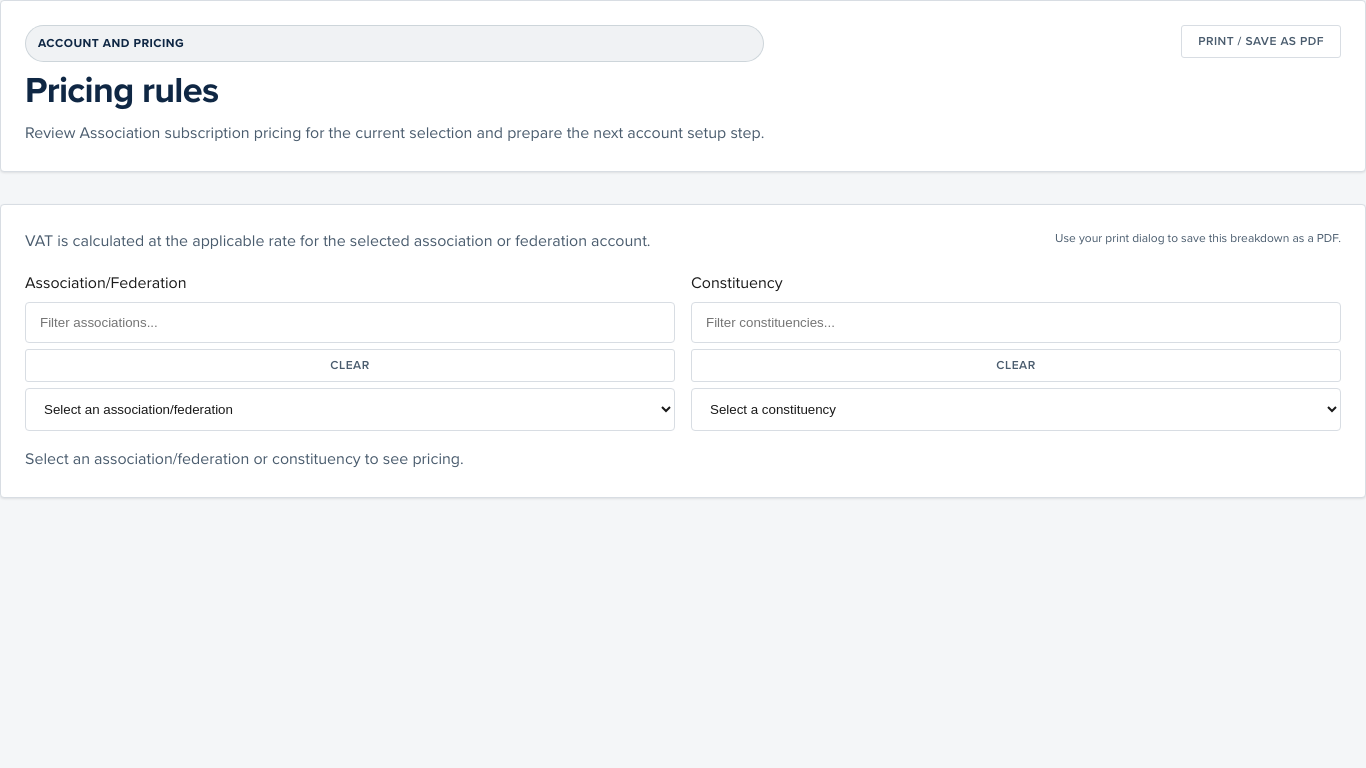
Test: PricingRules › selecting a constituency sets the association selection
The width and height of the screenshot is (1366, 768).
Select "Seat B" in the dropdown labelled "Constituency" at (1016, 410), box [691,388,1341,431]
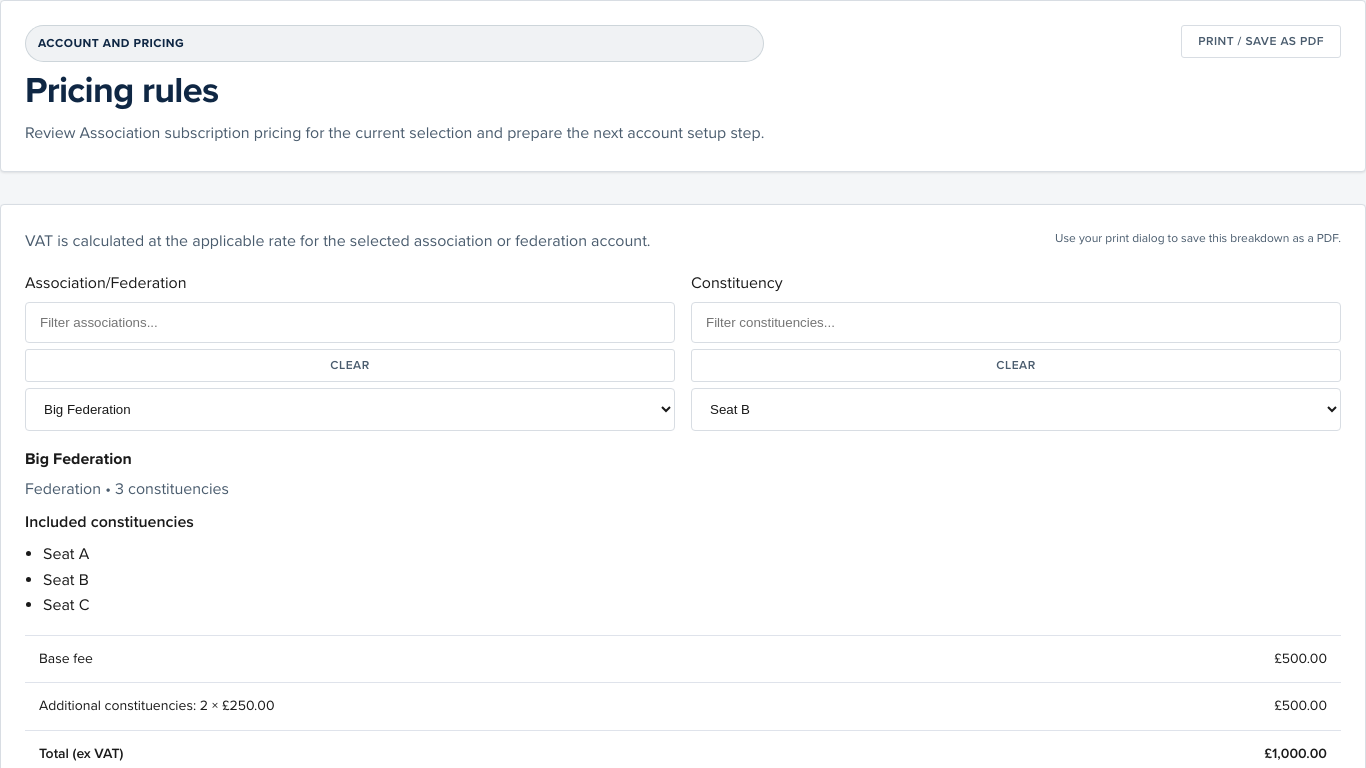
Now the dropdown labelled "Association/Federation" shows "Big Federation", box [25,388,675,431]
